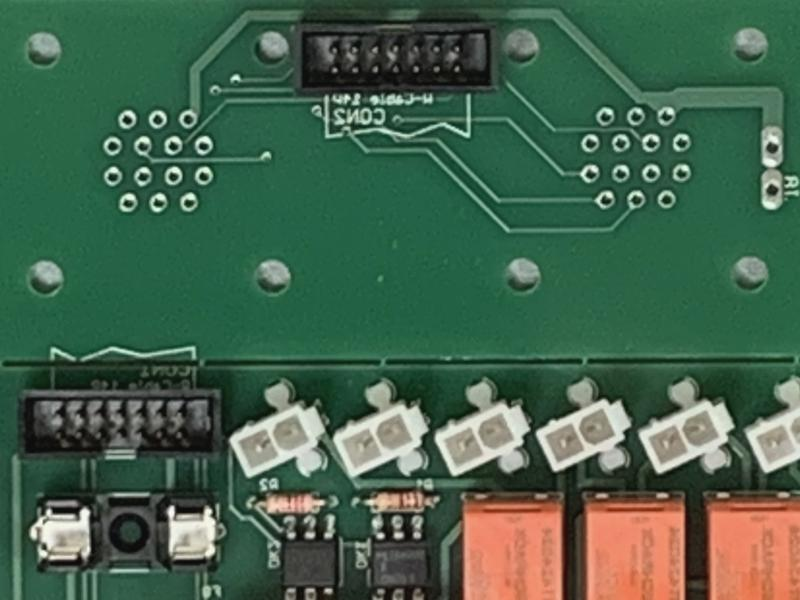Resistor: (260, 491, 321, 514), (371, 490, 427, 512)
